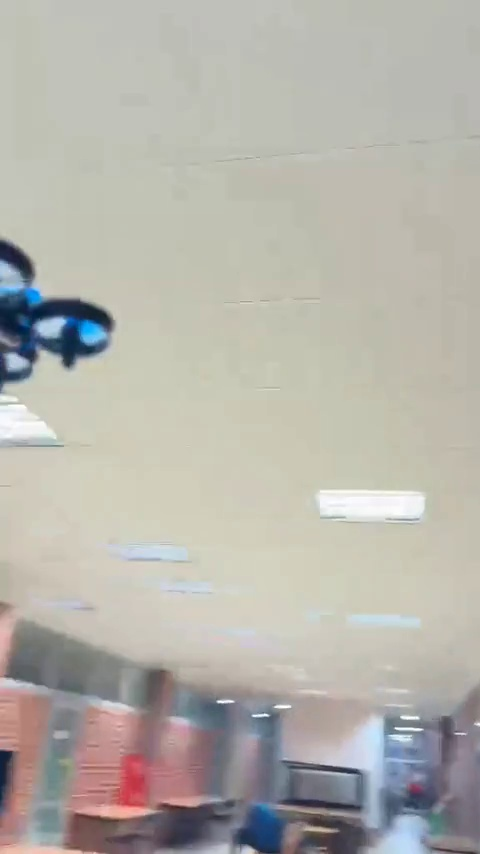drone: (0, 236, 112, 401)
